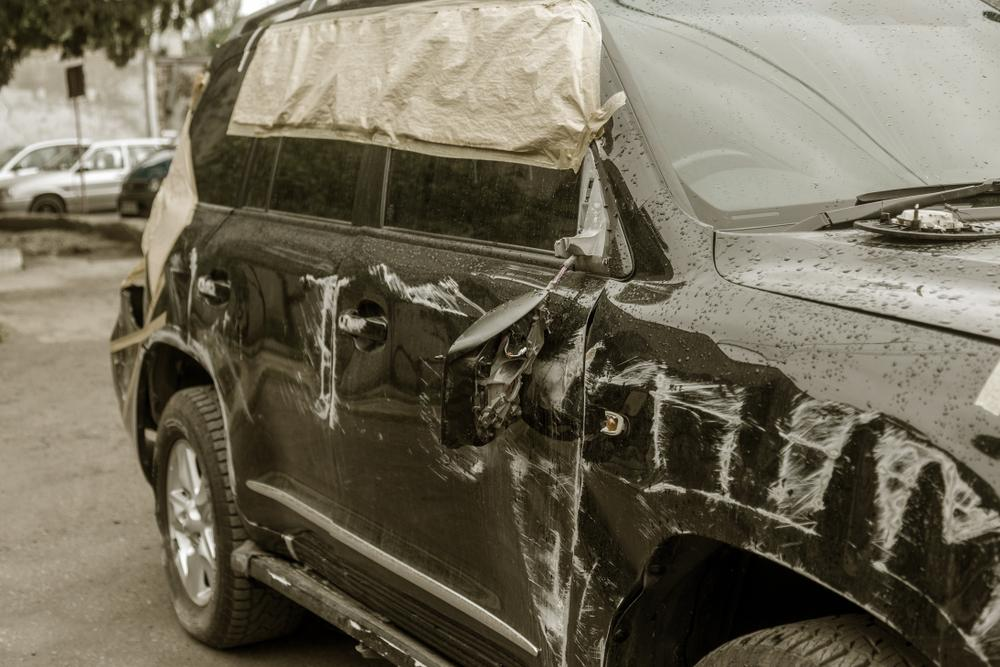scratch: (573, 354, 1000, 665), (508, 326, 586, 667), (295, 267, 341, 428), (369, 261, 488, 318)
